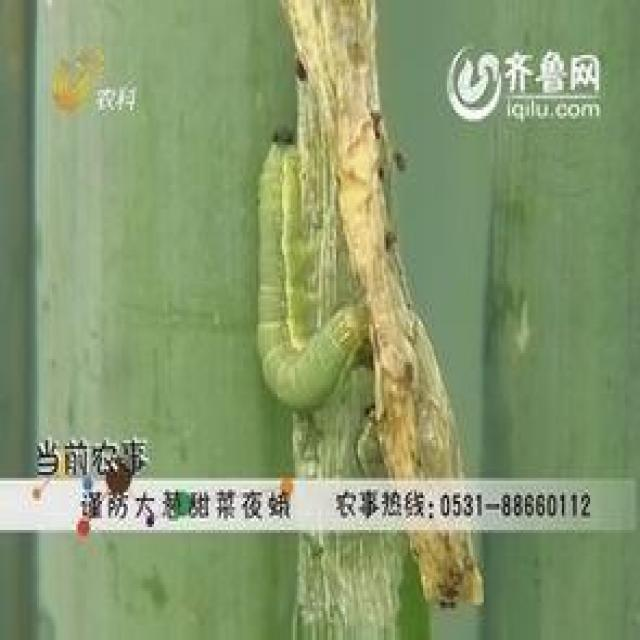BeetArmyWorm-Larva-: (245, 129, 370, 412)
